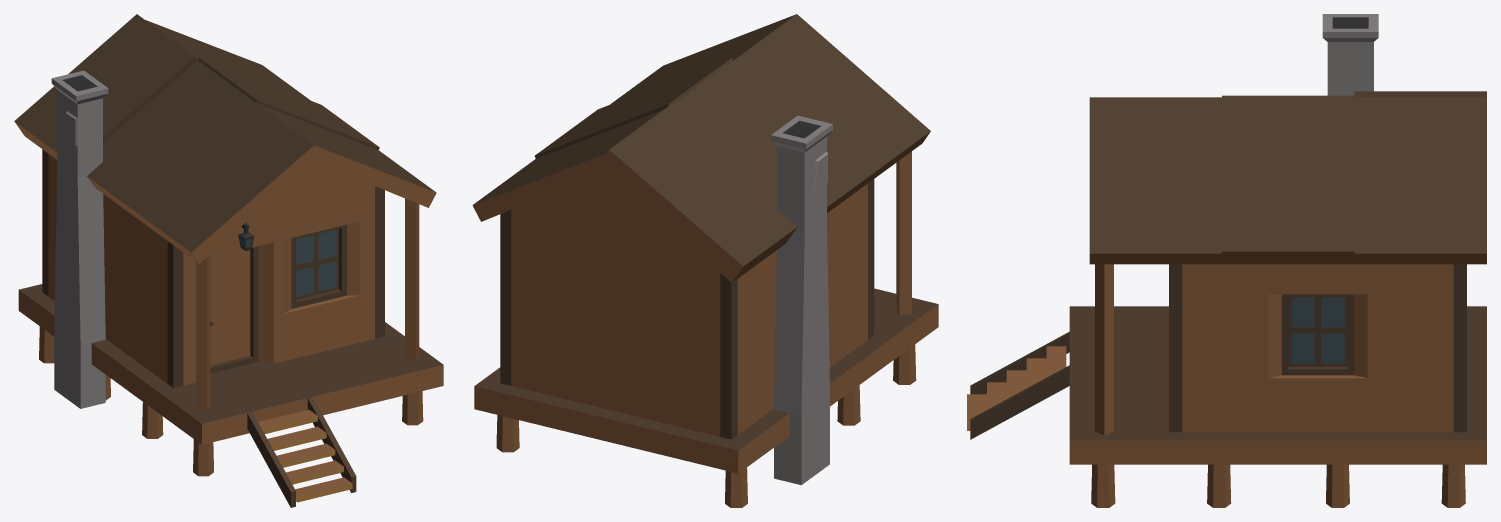
The model's file is building-cabin-small.glb.
3 renders of one model, left to right at view 1: azimuth 30°, elevation 25°; view 2: azimuth 150°, elevation 25°; view 3: azimuth 270°, elevation 25°, orthographic. The views are drawn at different scales.
Visible parts, largest first — view 1: building-cabin-small; view 2: building-cabin-small; view 3: building-cabin-small.
Boxes of the visible parts, <box> form: building-cabin-small: <box>14,14,443,507</box>; building-cabin-small: <box>472,14,938,507</box>; building-cabin-small: <box>967,14,1486,507</box>.
Bounding box in the file's own units: 4.38 × 5.05 × 6.67.
